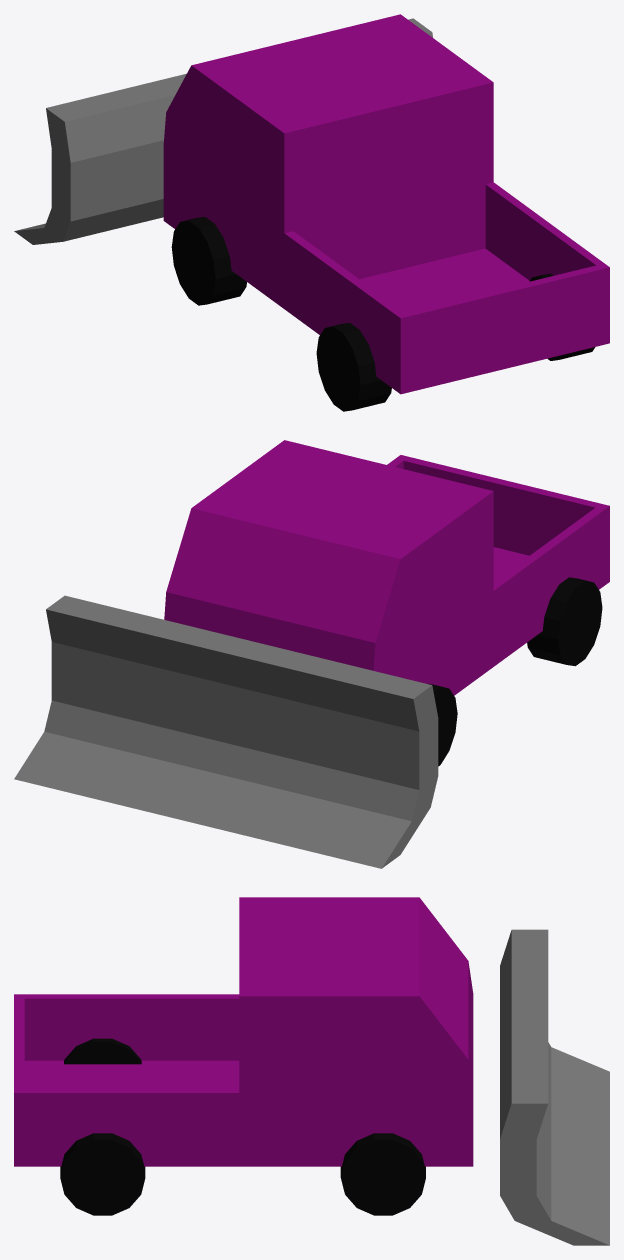
Rendered from Truck.fbx.
3 views of the same model, one above another, from view 1: azimuth 30°, elevation 25°; view 2: azimuth 150°, elevation 25°; view 3: azimuth 270°, elevation 25° (orthographic). The views are drawn at different scales.
Visible parts, largest first — view 1: Truck, Cube, Truck_FrontWheel_Left, Truck_BackWheel_Left; view 2: Truck, Cube, Truck_BackWheel_Left, Truck_FrontWheel_Left; view 3: Truck, Cube, Truck_FrontWheel_Right, Truck_BackWheel_Right, Truck_BackWheel_Left.
Boxes of the visible parts, <box> form: Truck: <box>163,14,609,394</box>; Cube: <box>14,18,432,244</box>; Truck_FrontWheel_Left: <box>171,217,246,305</box>; Truck_BackWheel_Left: <box>316,323,391,411</box>; Truck: <box>164,440,609,695</box>; Cube: <box>14,595,438,868</box>; Truck_BackWheel_Left: <box>527,577,602,666</box>; Truck_FrontWheel_Left: <box>427,683,457,766</box>; Truck: <box>14,897,473,1166</box>; Cube: <box>500,929,609,1245</box>; Truck_FrontWheel_Right: <box>340,1133,425,1215</box>; Truck_BackWheel_Right: <box>60,1133,145,1215</box>; Truck_BackWheel_Left: <box>64,1038,141,1064</box>.
Size of the model in its own units: 351 by 200 by 509.
